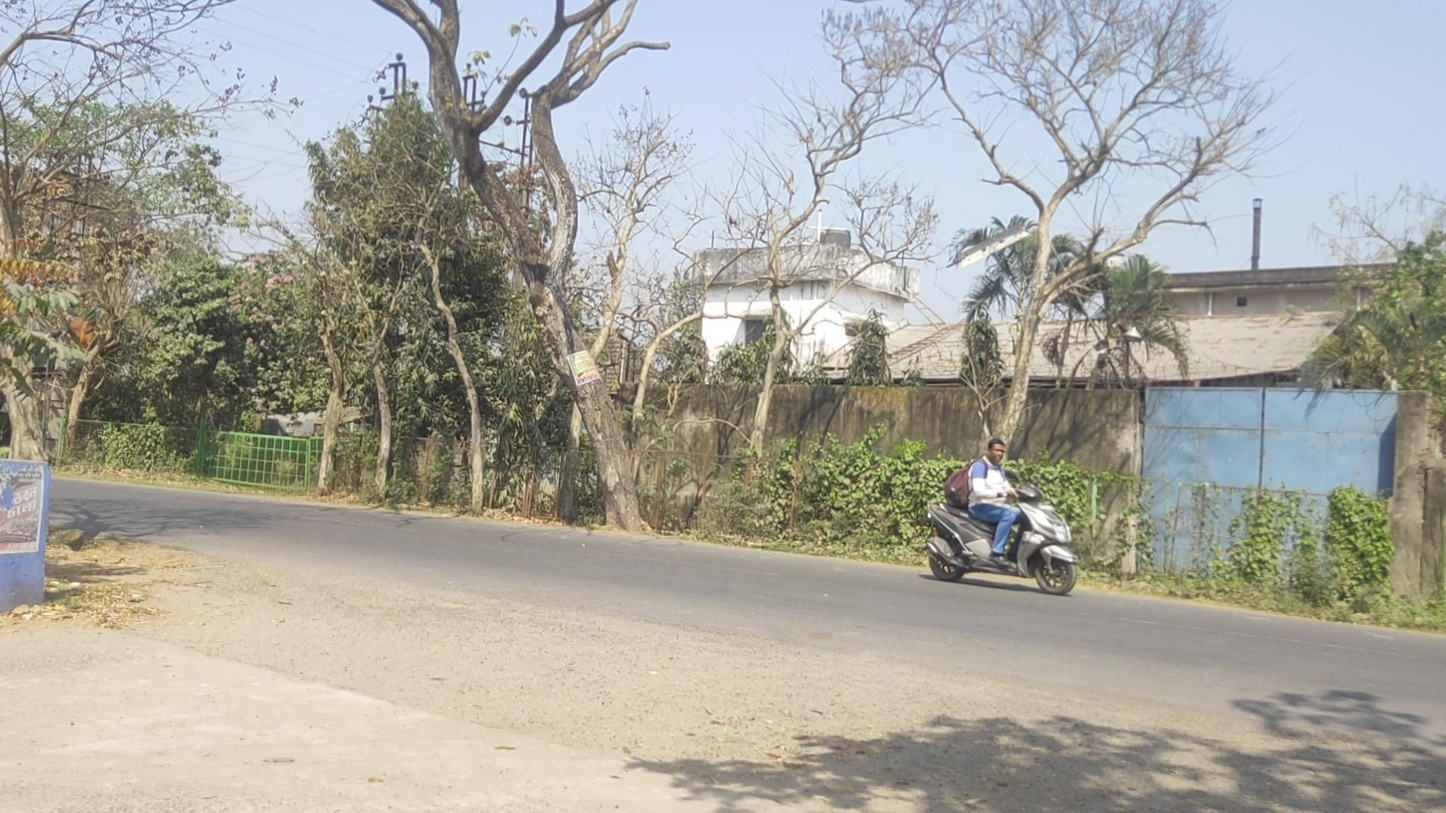bike: (925, 438, 1077, 595)
